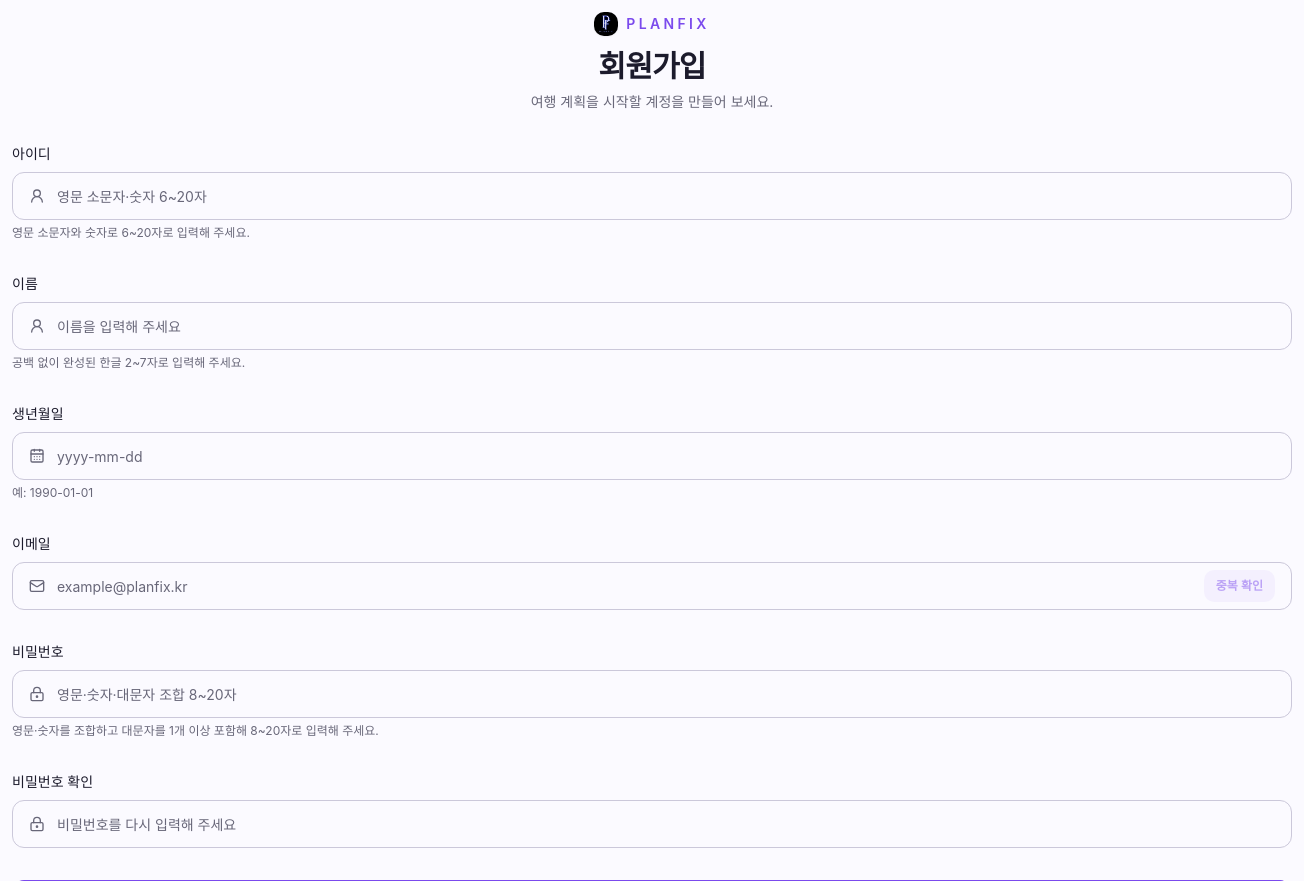
Test: formats the signup birth date as yyyy-mm-dd
Type "19900101" into the field labelled "생년월일" at (666, 456), box [57,433,1275,479]
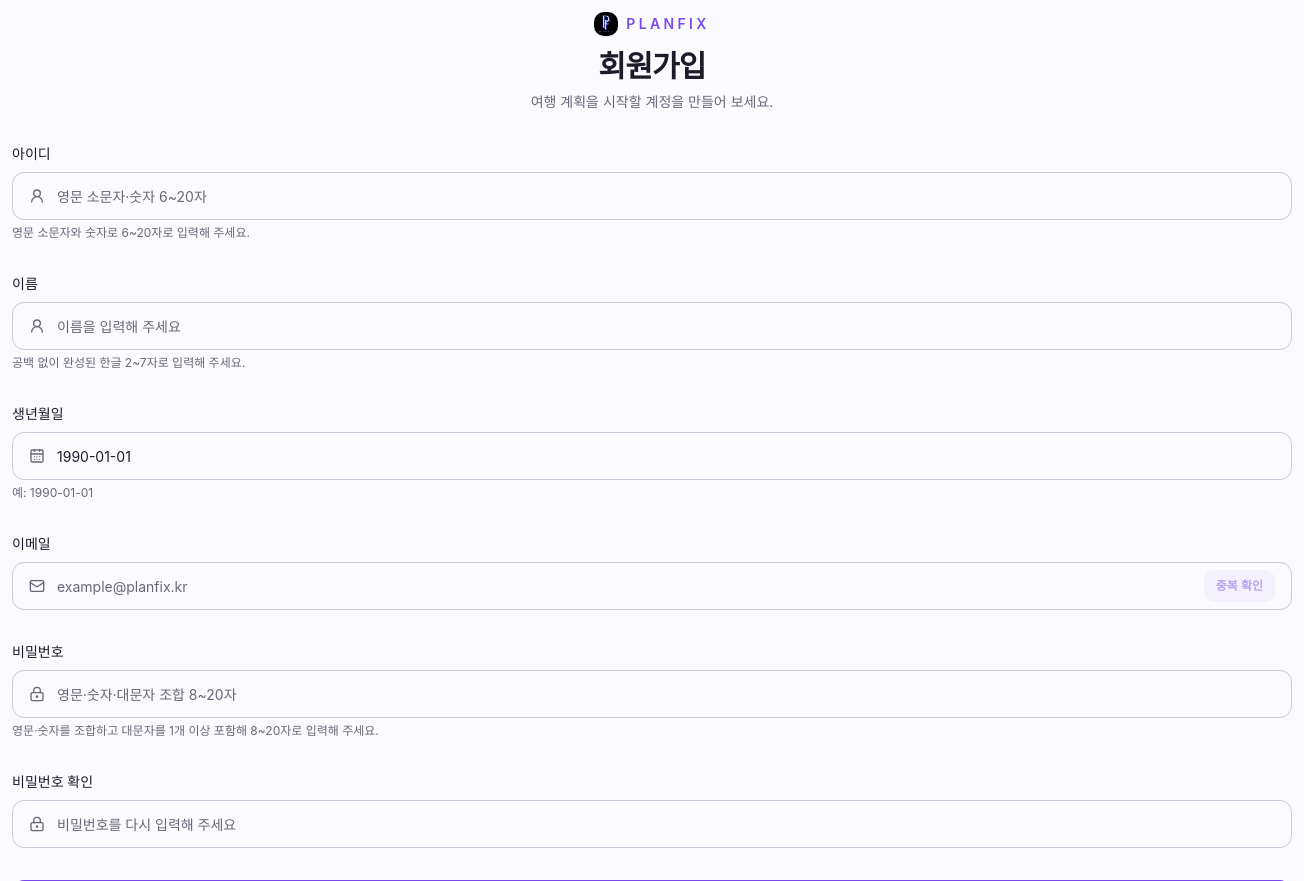
Now the field labelled "생년월일" holds "1990-01-01", box [57,433,1275,479]
